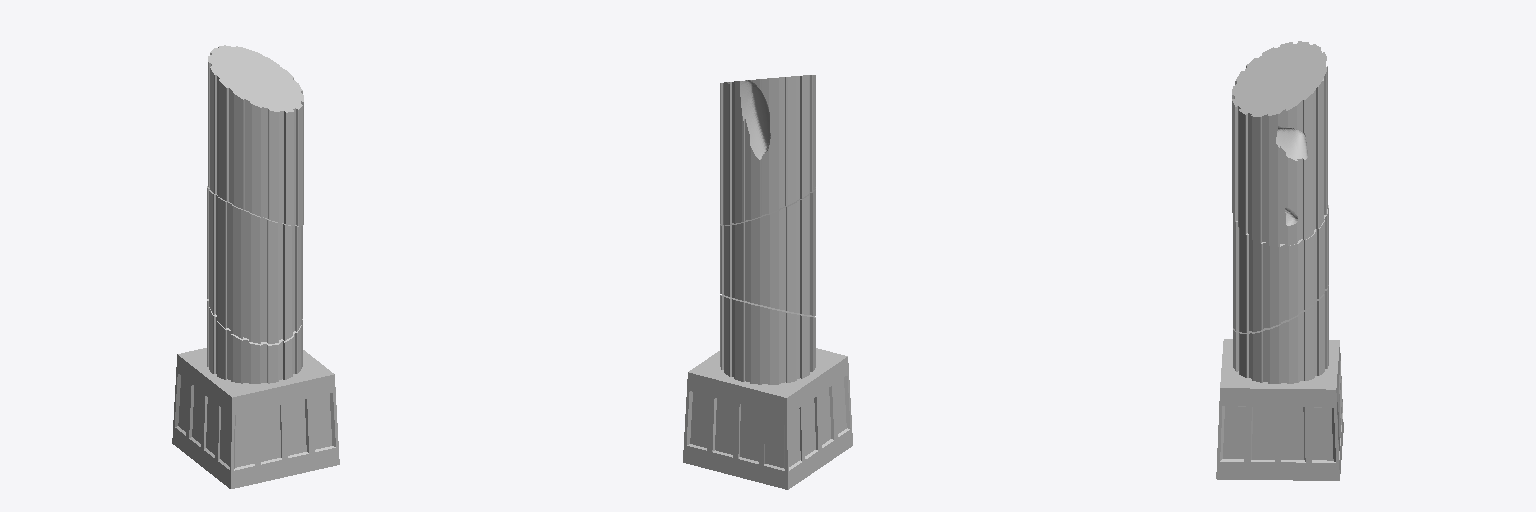
Rendered from ColumnHalf2.obj.
3 renders of one model, left to right at view 1: azimuth 30°, elevation 25°; view 2: azimuth 150°, elevation 25°; view 3: azimuth 270°, elevation 25°, orthographic.
Parts seen in each view (by area): view 1: ColumnHalf2; view 2: ColumnHalf2; view 3: ColumnHalf2.
Boxes of the visible parts, box(x1,y1,x2,y2) form: ColumnHalf2: box(172, 45, 339, 488); ColumnHalf2: box(683, 75, 852, 489); ColumnHalf2: box(1216, 41, 1343, 480).
Bounding box in the file's own units: 7.4 × 25.35 × 7.4.